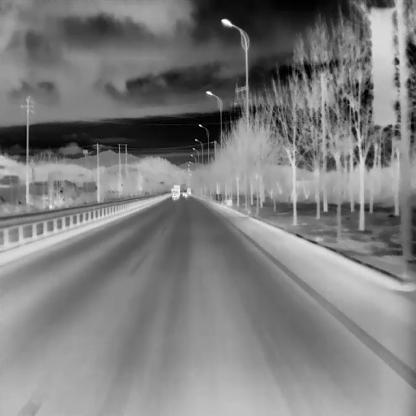car: (173, 184, 179, 195), (172, 190, 179, 199), (182, 189, 188, 197)
